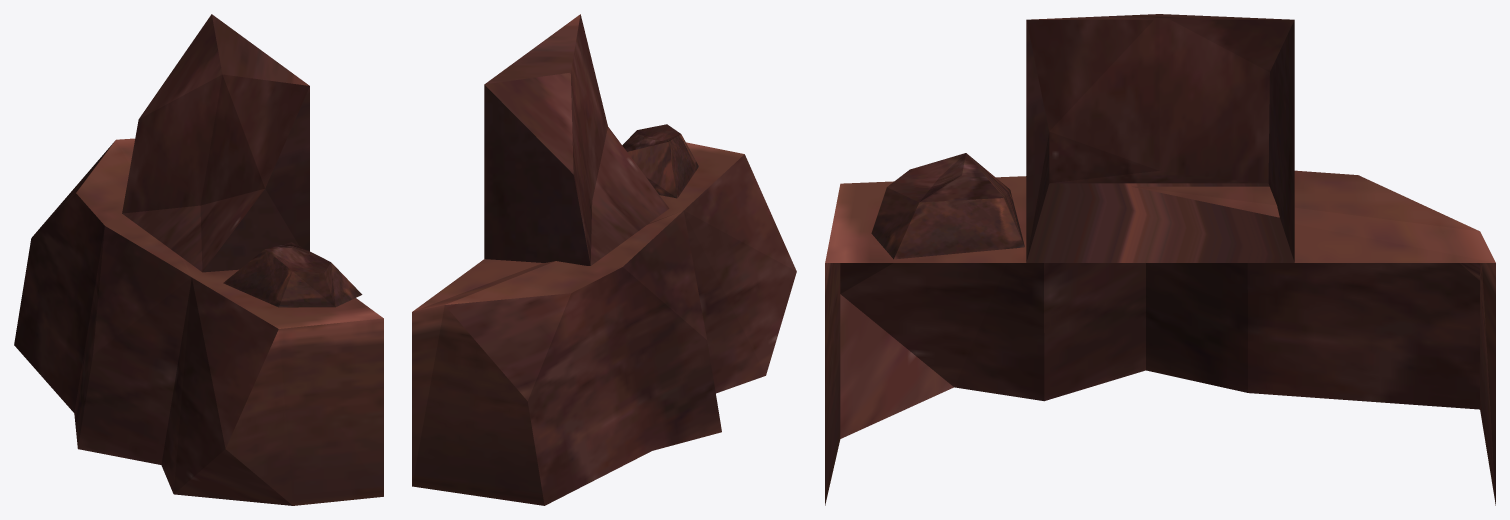
File: lava_railing_end_02.fbx
3 renders of one model, left to right at view 1: azimuth 30°, elevation 25°; view 2: azimuth 150°, elevation 25°; view 3: azimuth 270°, elevation 25°, orthographic. The views are drawn at different scales.
Visible parts, largest first — view 1: obj1.060; view 2: obj1.060; view 3: obj1.060.
Part boxes in pixels (x1,y1,x2,y2): obj1.060: (14, 14, 383, 505); obj1.060: (412, 14, 796, 505); obj1.060: (825, 14, 1495, 505).
Bounding box in the file's own units: 0.5637 × 1 × 1.25.
